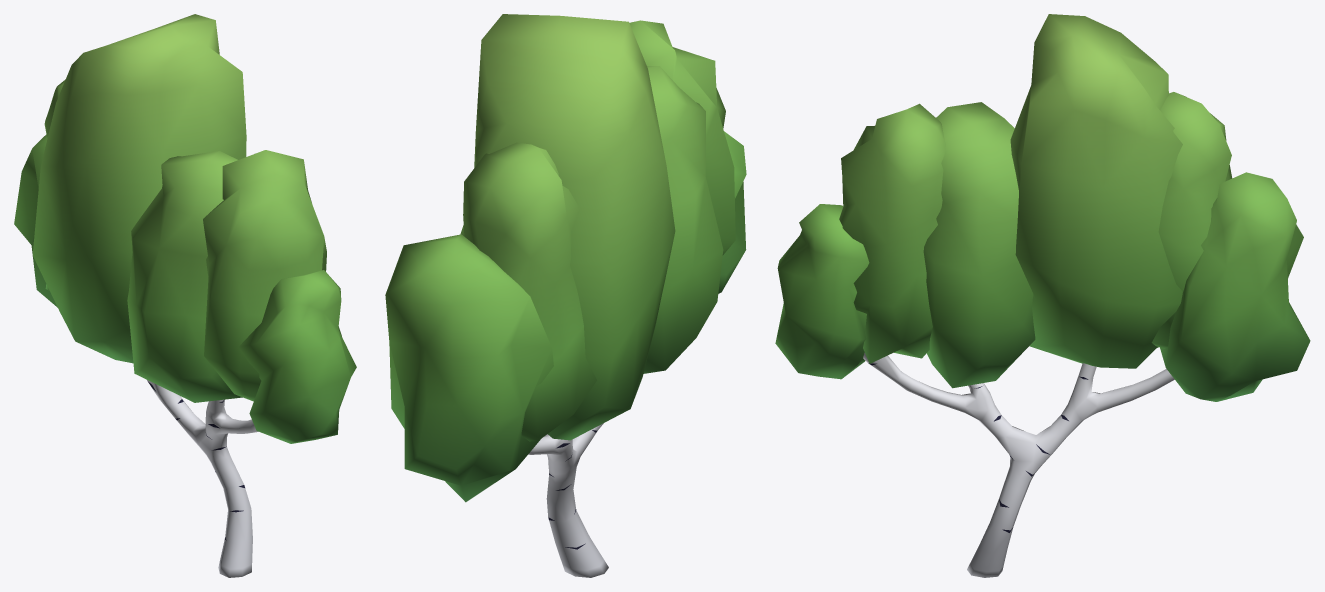
Rendered from BirchTree_4.fbx.
3 views of the same model, side by side, from view 1: azimuth 30°, elevation 25°; view 2: azimuth 150°, elevation 25°; view 3: azimuth 270°, elevation 25° (orthographic). The views are drawn at different scales.
Visible parts, largest first — view 1: BirchTree_4.001, BirchTree_4; view 2: BirchTree_4.001, BirchTree_4; view 3: BirchTree_4.001, BirchTree_4.
Boxes of the visible parts, x1,y1,x2,y2 form: BirchTree_4.001: [14, 14, 356, 443]; BirchTree_4: [147, 380, 258, 577]; BirchTree_4.001: [385, 14, 746, 502]; BirchTree_4: [528, 423, 608, 577]; BirchTree_4.001: [775, 14, 1310, 401]; BirchTree_4: [863, 353, 1174, 577].
Bounding box in the file's own units: 1.15 × 3.56 × 3.29.
